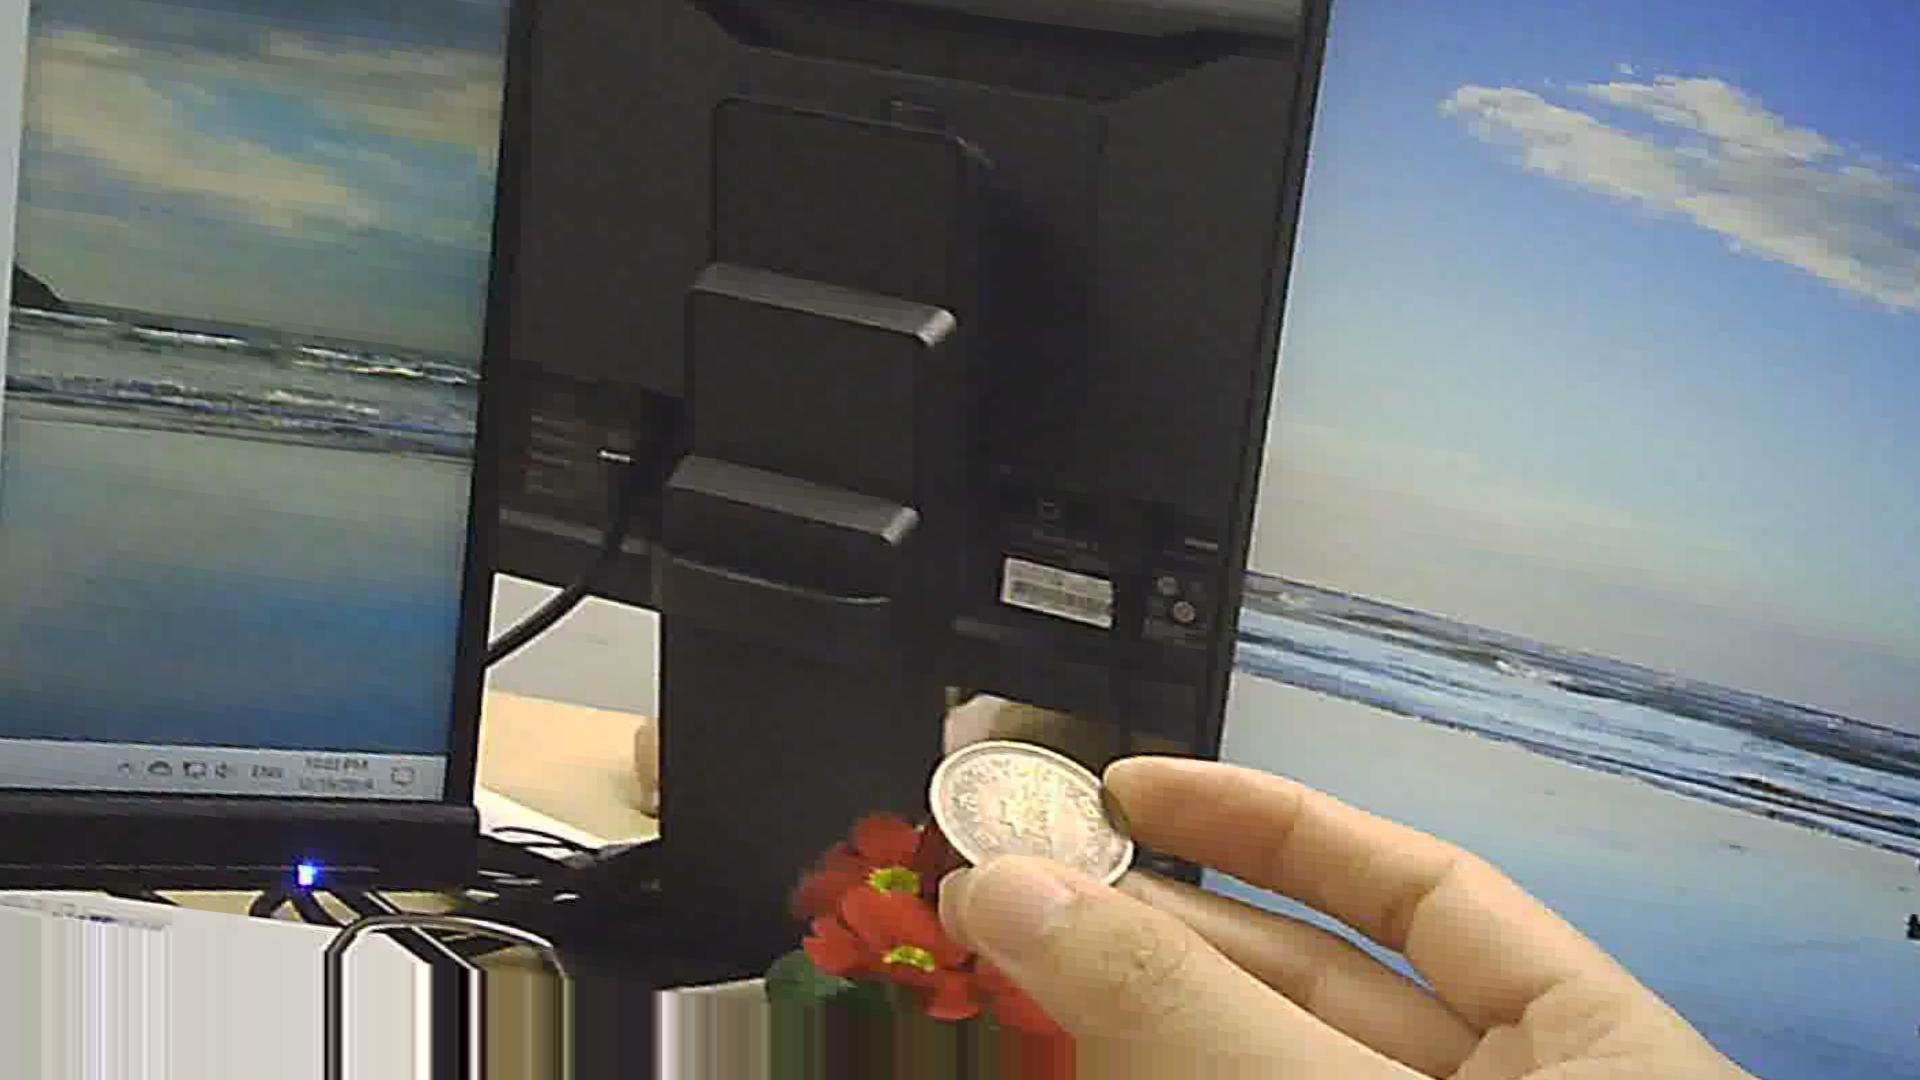10 Yen: (924, 736, 1150, 905)
